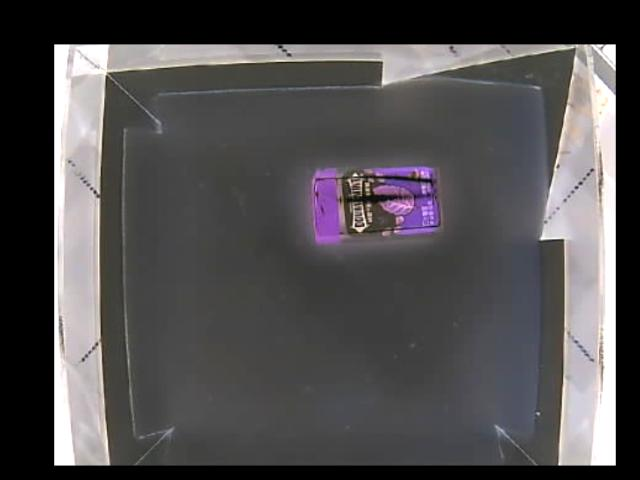Bottle: (310, 162, 442, 244)
